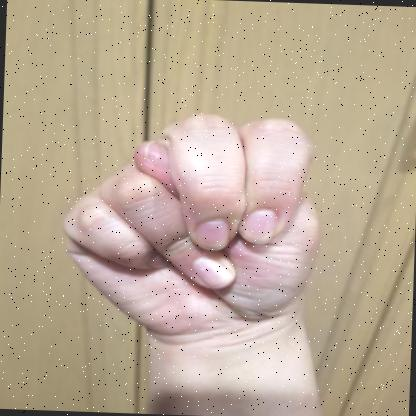N: (63, 114, 321, 343)
